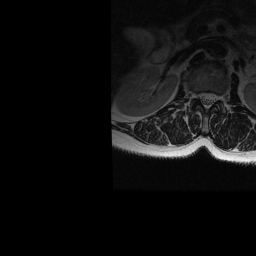CCS_normal: (204, 86, 210, 118)
LFS_stenosis: (216, 87, 222, 107)
LLS_normal: (210, 87, 216, 109)
RFS_normal: (192, 85, 198, 105)
RLS_normal: (198, 85, 204, 110)
